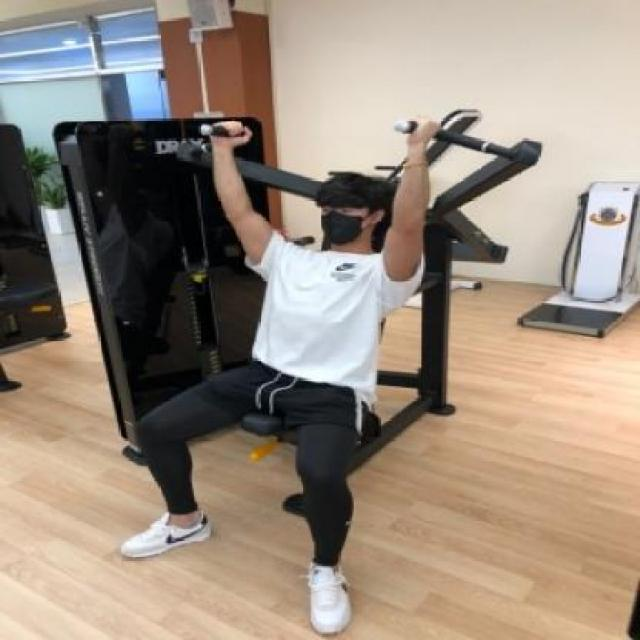shoulder press machine: (37, 83, 563, 640)
